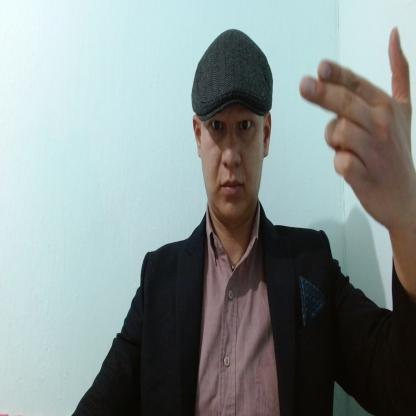H: (299, 26, 412, 225)
